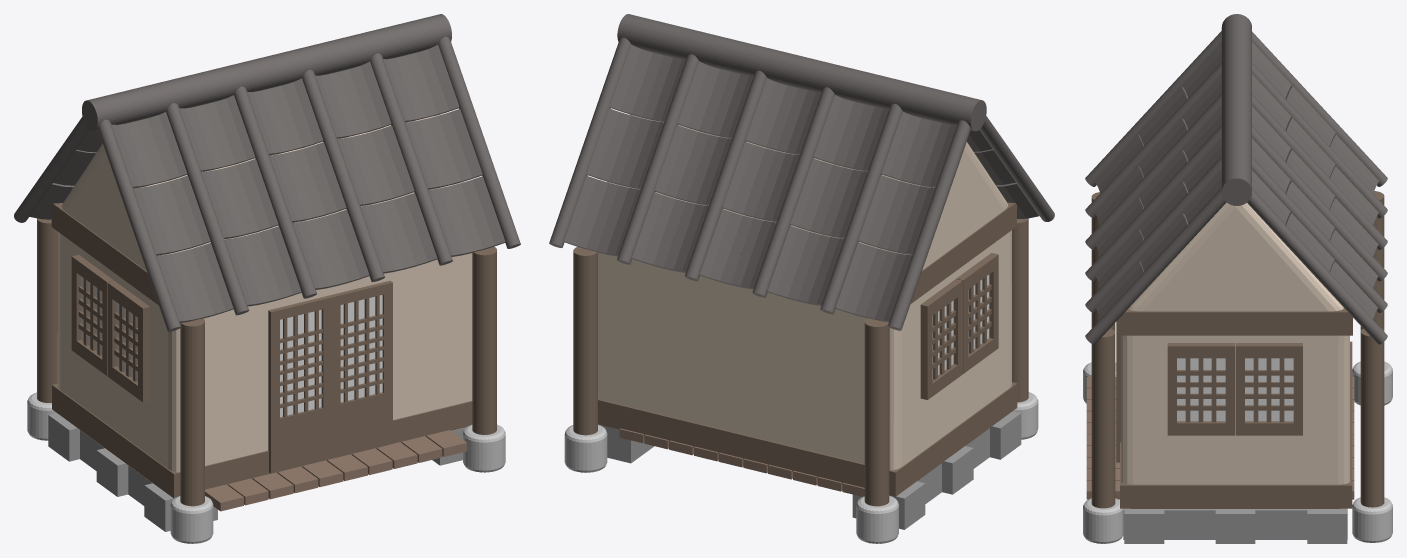
3 views of the same model, side by side, from view 1: azimuth 30°, elevation 25°; view 2: azimuth 150°, elevation 25°; view 3: azimuth 270°, elevation 25° (orthographic). The views are drawn at different scales.
Parts seen in each view (by area): view 1: 큐브.007, 큐브.004, 실린더.007, 큐브.018, 큐브.019, 큐브.114, 큐브.014, 실린더.009, 실린더.010, 큐브.116, 큐브.032, 실린더.015 (+7 smaller); view 2: 큐브.007, 큐브.004, 실린더.007, 큐브.114, 실린더.015, 실린더.016, 큐브.116, 큐브.036, 큐브.032, 실린더.009, 큐브.001, 큐브.014 (+4 smaller); view 3: 큐브.004, 실린더.007, 큐브.007, 큐브, 큐브.114, 큐브.001, 큐브.025, 큐브.031, 실린더.010, 실린더.016, 큐브.027, 큐브.028 (+7 smaller).
Part boxes in pixels (x1,y1,x2,y2): 큐브.007: (29, 44, 505, 322); 큐브.004: (57, 114, 472, 482); 실린더.007: (14, 14, 520, 331); 큐브.018: (268, 295, 332, 473); 큐브.019: (330, 280, 392, 458); 큐브.114: (52, 383, 472, 498); 큐브.014: (205, 430, 467, 511); 실린더.009: (180, 318, 204, 506); 실린더.010: (472, 246, 496, 434); 큐브.116: (48, 413, 217, 531); 큐브.032: (107, 281, 149, 402); 실린더.015: (37, 218, 57, 402); 큐브.007: (564, 44, 1039, 322); 큐브.004: (598, 114, 1011, 480); 실린더.007: (549, 14, 1054, 330); 큐브.114: (598, 382, 1017, 496); 실린더.015: (864, 318, 889, 506); 실린더.016: (573, 247, 597, 435); 큐브.116: (852, 411, 1021, 529); 큐브.036: (920, 279, 962, 399); 큐브.032: (956, 253, 998, 373); 실린더.009: (1012, 218, 1028, 402); 큐브.001: (605, 202, 1016, 303); 큐브.014: (619, 428, 864, 496); 큐브.004: (1121, 202, 1349, 508); 실린더.007: (1085, 14, 1387, 344); 큐브.007: (1095, 42, 1378, 319); 큐브: (1123, 508, 1347, 543); 큐브.114: (1120, 341, 1352, 508); 큐브.001: (1121, 307, 1352, 335); 큐브.025: (1167, 343, 1234, 435); 큐브.031: (1235, 343, 1302, 435); 실린더.010: (1091, 328, 1115, 508); 실린더.016: (1360, 328, 1384, 507); 큐브.027: (1177, 358, 1225, 421); 큐브.028: (1245, 358, 1293, 421).
Size of the model in its own units: 1158 by 1223 by 922.
